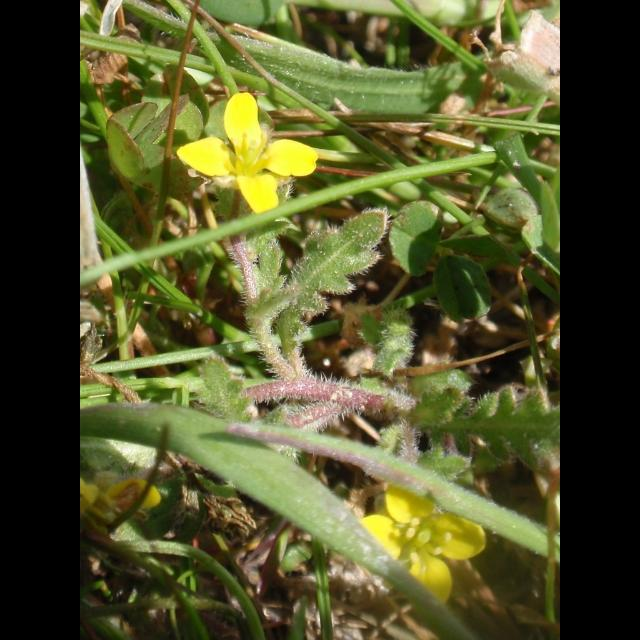Flower: (180, 88, 318, 200), (352, 488, 483, 600)
